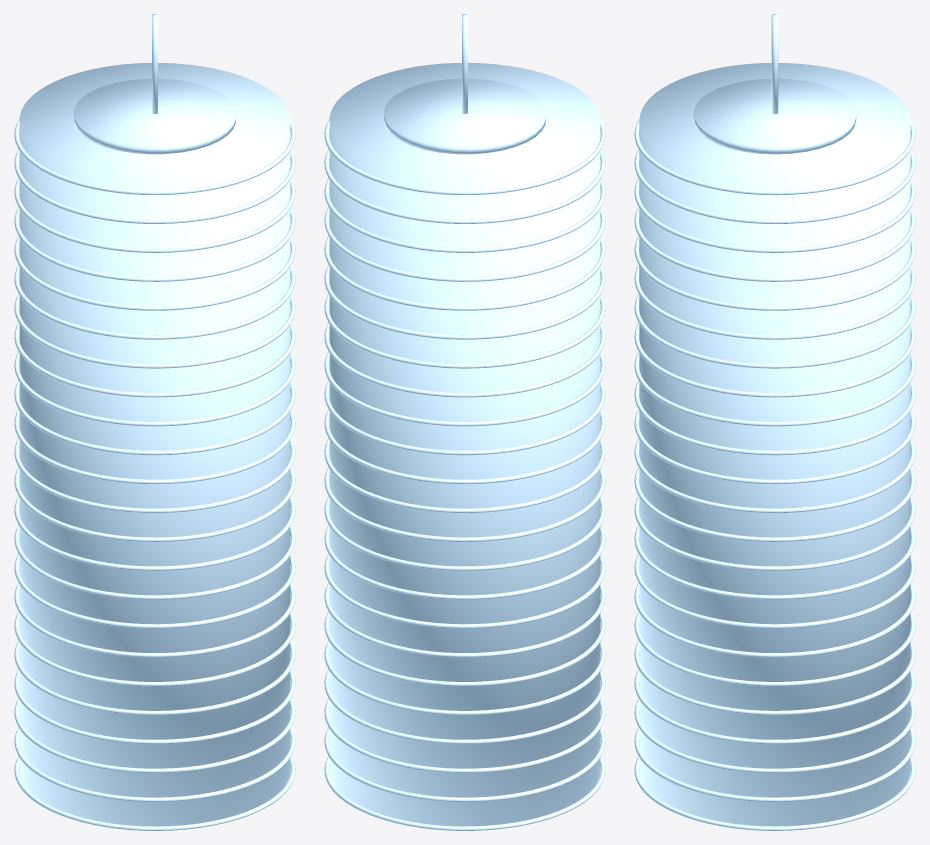
Rendered from building_cylindrical_large.glb.
The picture shows the model from 3 angles, left to right: view 1: azimuth 30°, elevation 25°; view 2: azimuth 150°, elevation 25°; view 3: azimuth 270°, elevation 25°; orthographic projection.
Visible parts, largest first — view 1: CylindricalBuilding_large; view 2: CylindricalBuilding_large; view 3: CylindricalBuilding_large.
Part boxes in pixels (left/top/right/bottom): CylindricalBuilding_large: left=14, top=14, right=295, bottom=830; CylindricalBuilding_large: left=324, top=14, right=605, bottom=830; CylindricalBuilding_large: left=634, top=14, right=915, bottom=830.
Size of the model in its own units: 176 by 524 by 176.
